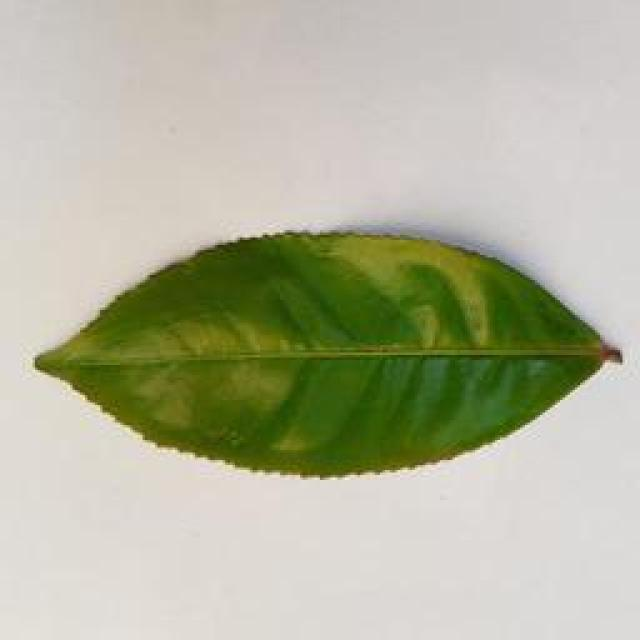Healthy: (31, 231, 614, 482)
